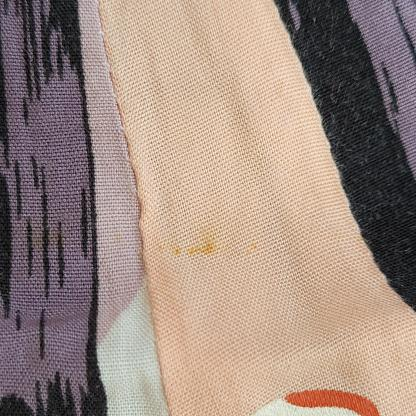spot: (118, 230, 263, 261)
